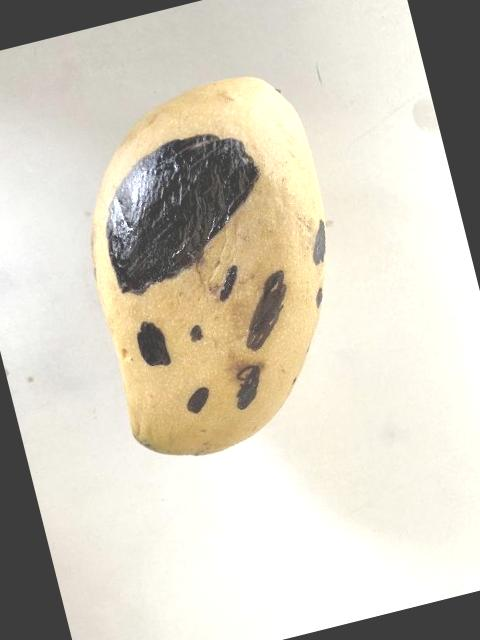Mango Overripe: (29, 24, 416, 512)
